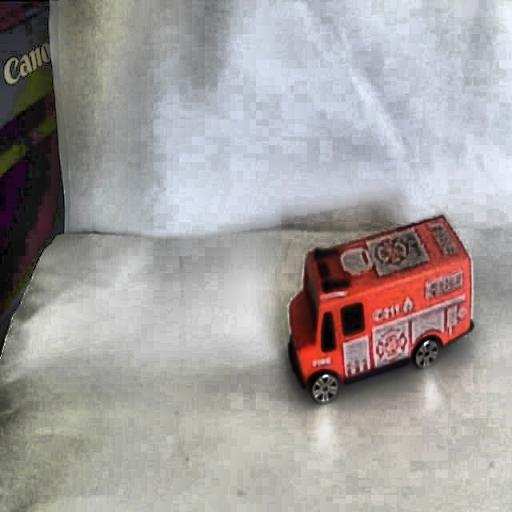fire_truck: (275, 203, 480, 406)
